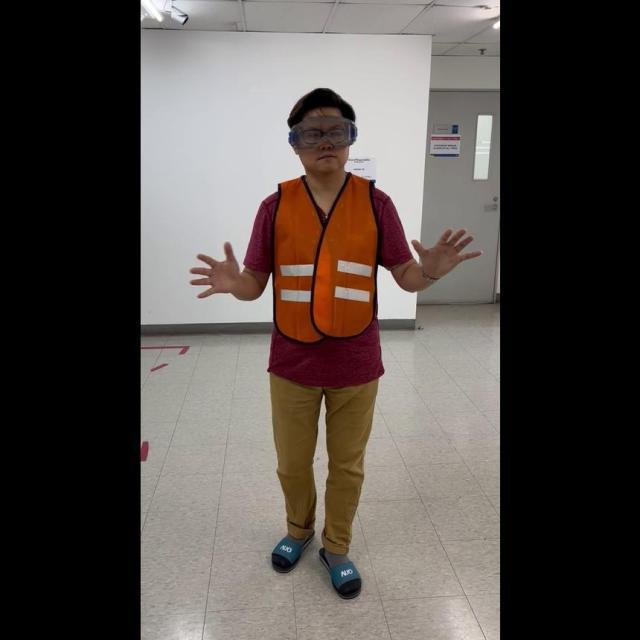bare_hand: (409, 221, 481, 281), (188, 237, 245, 301)
